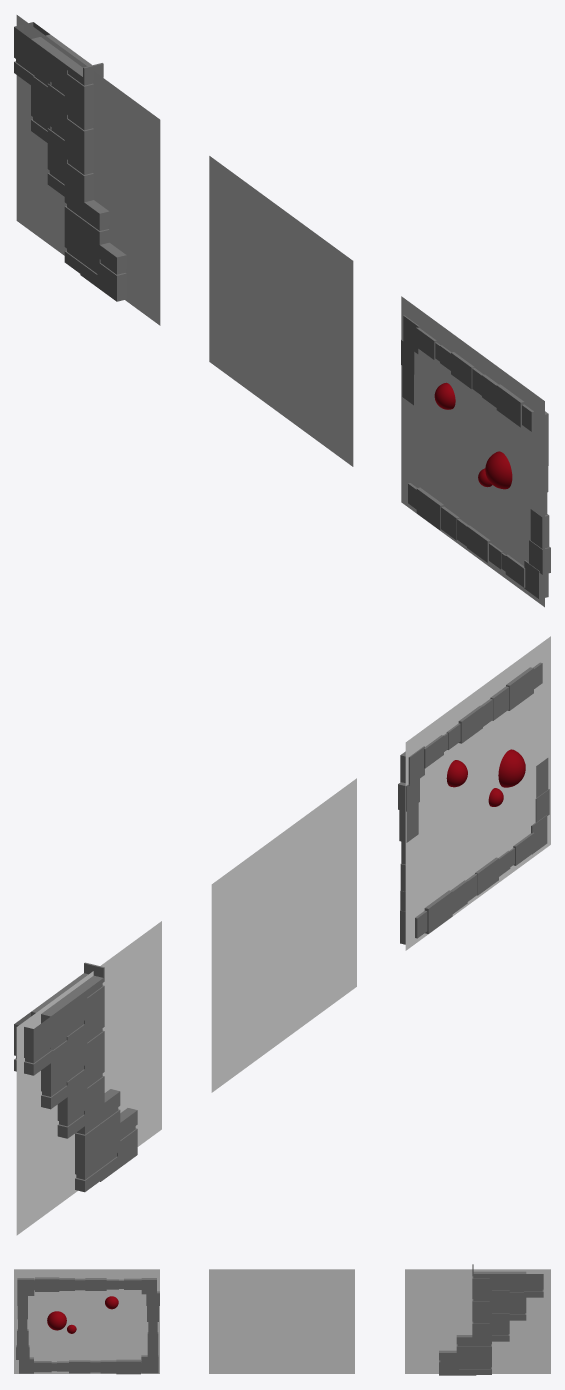
Rendered from roomDecorations.fbx.
The picture shows the model from 3 angles, top to bottom: view 1: azimuth 30°, elevation 25°; view 2: azimuth 150°, elevation 25°; view 3: azimuth 270°, elevation 25°; orthographic projection. The views are drawn at different scales.
Visible parts, largest first — view 1: FleshMixedWithStone, WallFramed, FleshDecoration; view 2: WallFramed, FleshMixedWithStone, FleshDecoration; view 3: FleshMixedWithStone, WallFramed, FleshDecoration.
Part boxes in pixels (x1,y1,x2,y2): FleshMixedWithStone: (14,15,160,325); WallFramed: (401,296,550,607); FleshDecoration: (209,156,353,466); WallFramed: (398,636,550,950); FleshMixedWithStone: (14,921,161,1235); FleshDecoration: (211,778,356,1092); FleshMixedWithStone: (405,1264,550,1375); WallFramed: (14,1269,159,1374); FleshDecoration: (209,1269,354,1373).
Size of the model in its own units: 200 by 1197 by 5426.
